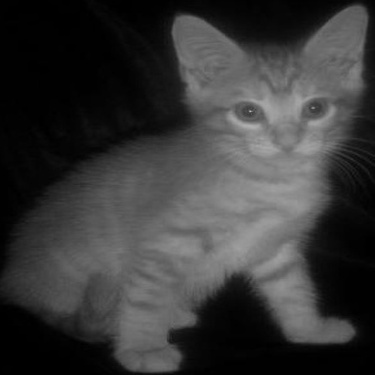cat: (9, 18, 363, 350)
